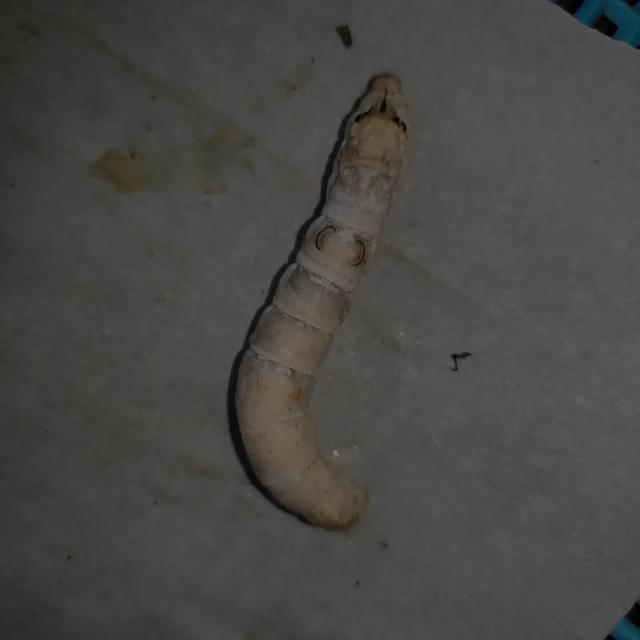Grasserie: (218, 55, 443, 539)
